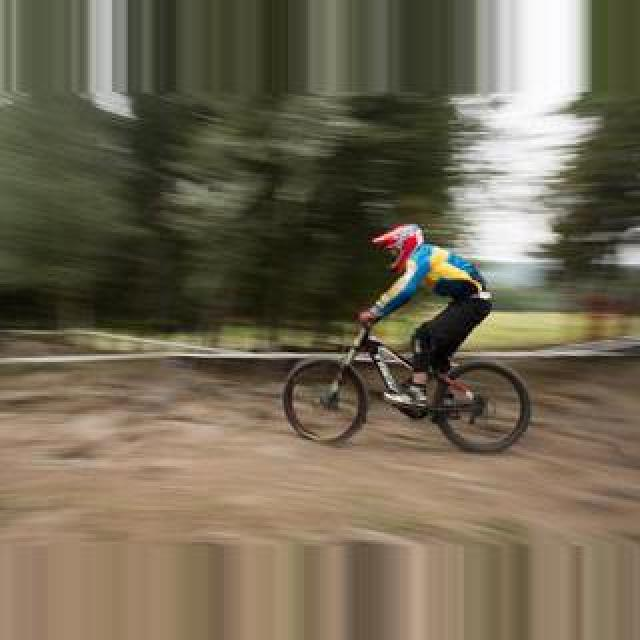MC-Bike: (354, 222, 490, 412)
Person: (283, 315, 535, 455)
